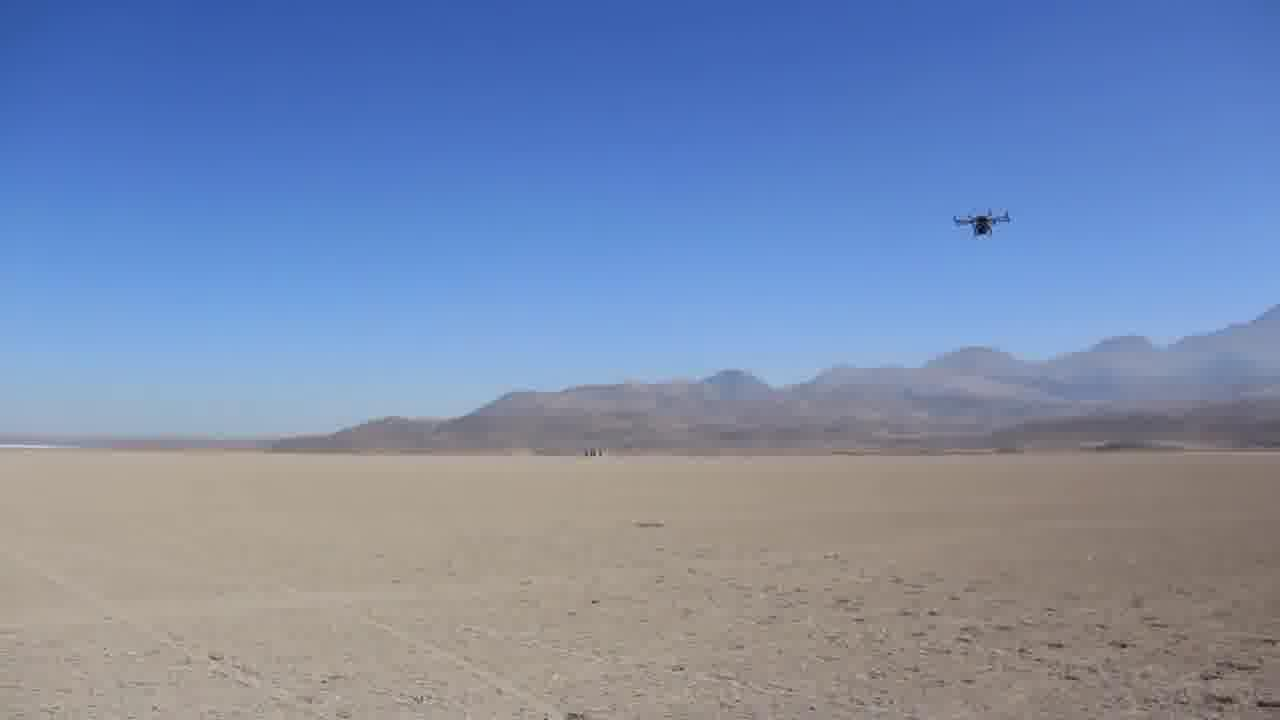Drone: (945, 198, 1019, 250)
